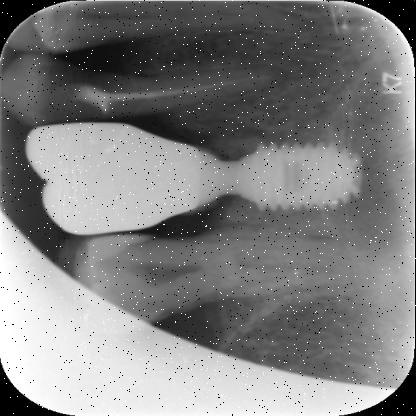Bicon: (216, 138, 362, 210)
